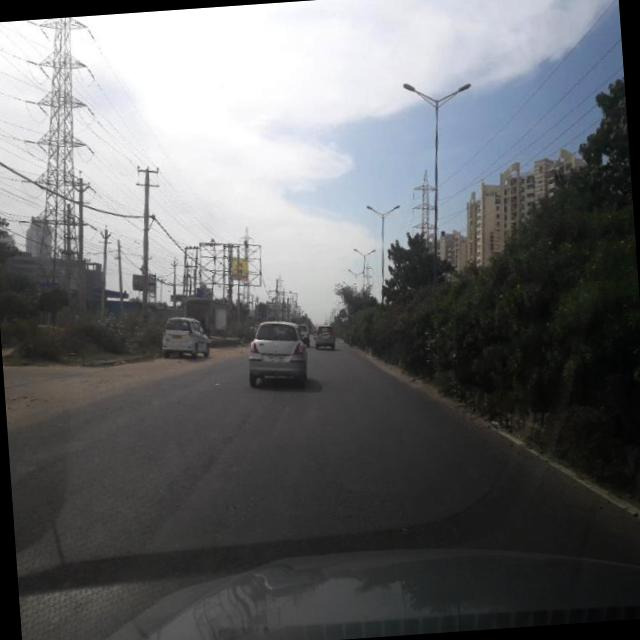crack: (41, 404, 488, 578)
